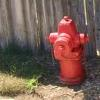a fire hydrant: (48, 15, 90, 82)
